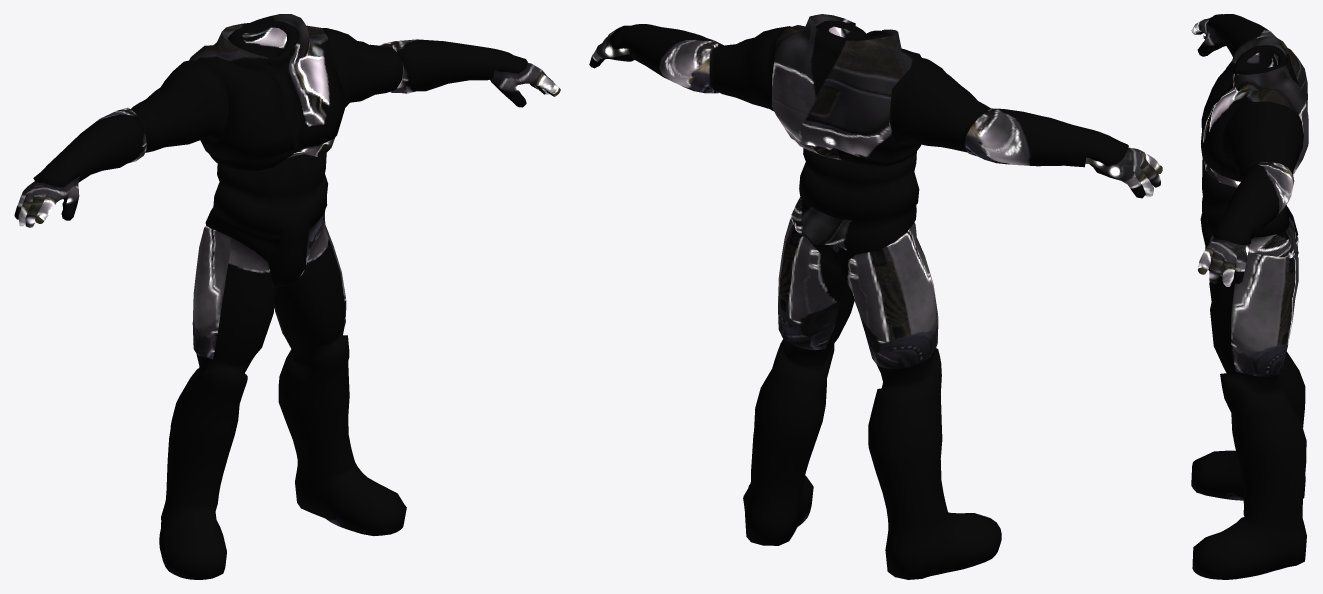
Rendered from erebus.glb.
3 views of the same model, side by side, from view 1: azimuth 30°, elevation 25°; view 2: azimuth 150°, elevation 25°; view 3: azimuth 270°, elevation 25° (orthographic). The views are drawn at different scales.
Size of the model in its own units: 69.09 by 62.05 by 13.89.
Materials: 1 (1 with a texture image).
